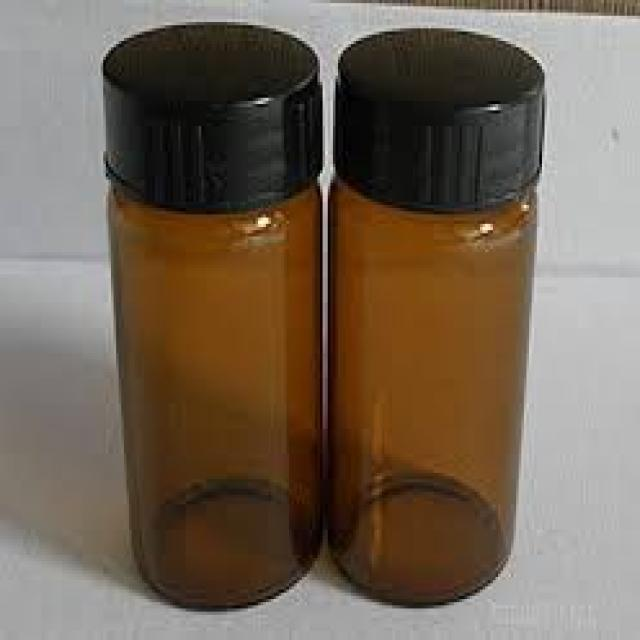Glass: (107, 184, 322, 612), (328, 179, 538, 611)
